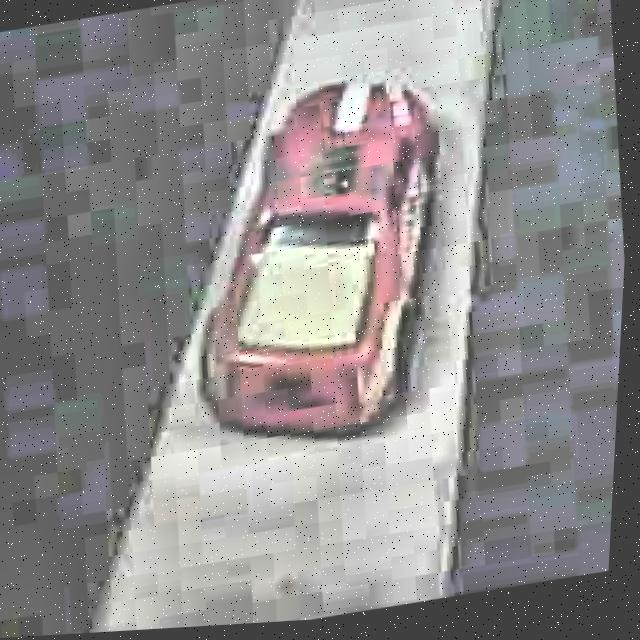car: (162, 57, 477, 470)
